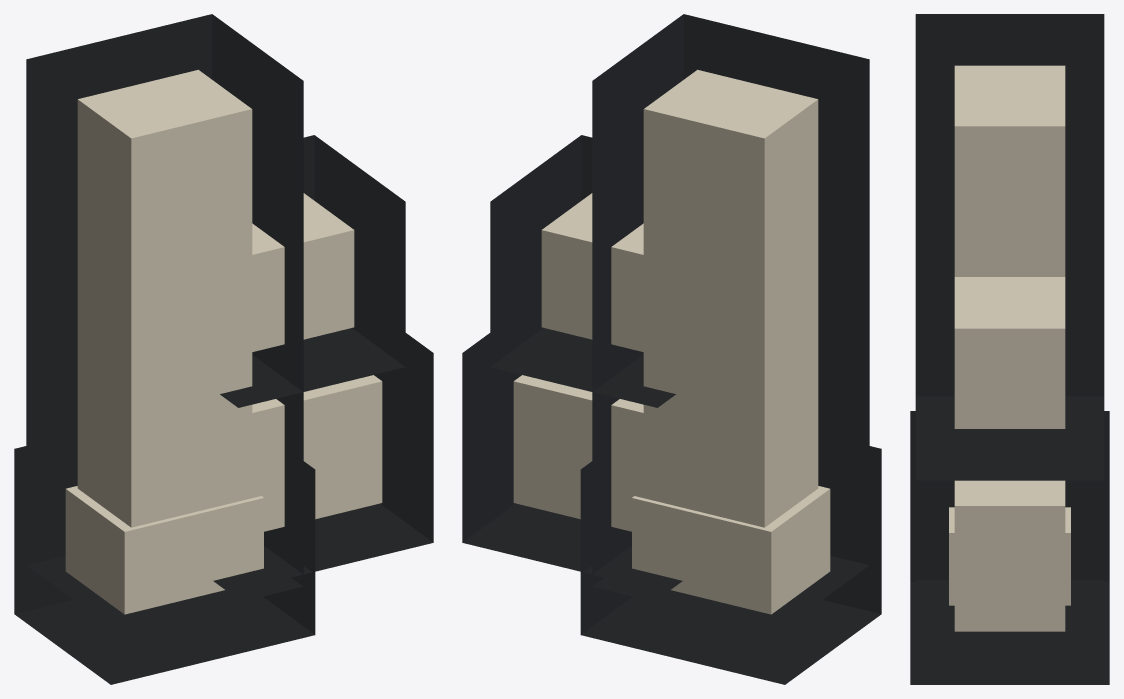
Rendered from SM_Key_Collar_Half.glb.
3 renders of one model, left to right at view 1: azimuth 30°, elevation 25°; view 2: azimuth 150°, elevation 25°; view 3: azimuth 270°, elevation 25°, orthographic. The views are drawn at different scales.
Visible parts, largest first — view 1: SM_Key_Collar_Half, SM_Key_Collar_Half_Outline; view 2: SM_Key_Collar_Half, SM_Key_Collar_Half_Outline; view 3: SM_Key_Collar_Half_Outline, SM_Key_Collar_Half.
Part boxes in pixels (x1,y1,x2,y2): SM_Key_Collar_Half: [65, 69, 382, 614]; SM_Key_Collar_Half_Outline: [14, 14, 433, 684]; SM_Key_Collar_Half: [513, 69, 830, 614]; SM_Key_Collar_Half_Outline: [462, 14, 881, 684]; SM_Key_Collar_Half_Outline: [910, 14, 1109, 684]; SM_Key_Collar_Half: [949, 65, 1070, 631].
Size of the model in its own units: 0.07 by 0.114 by 0.036.
2 materials, 1 textured.
